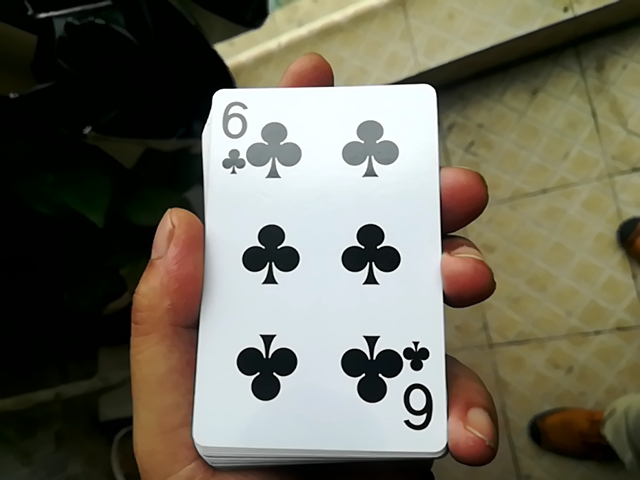mh 6: (183, 81, 445, 454)
